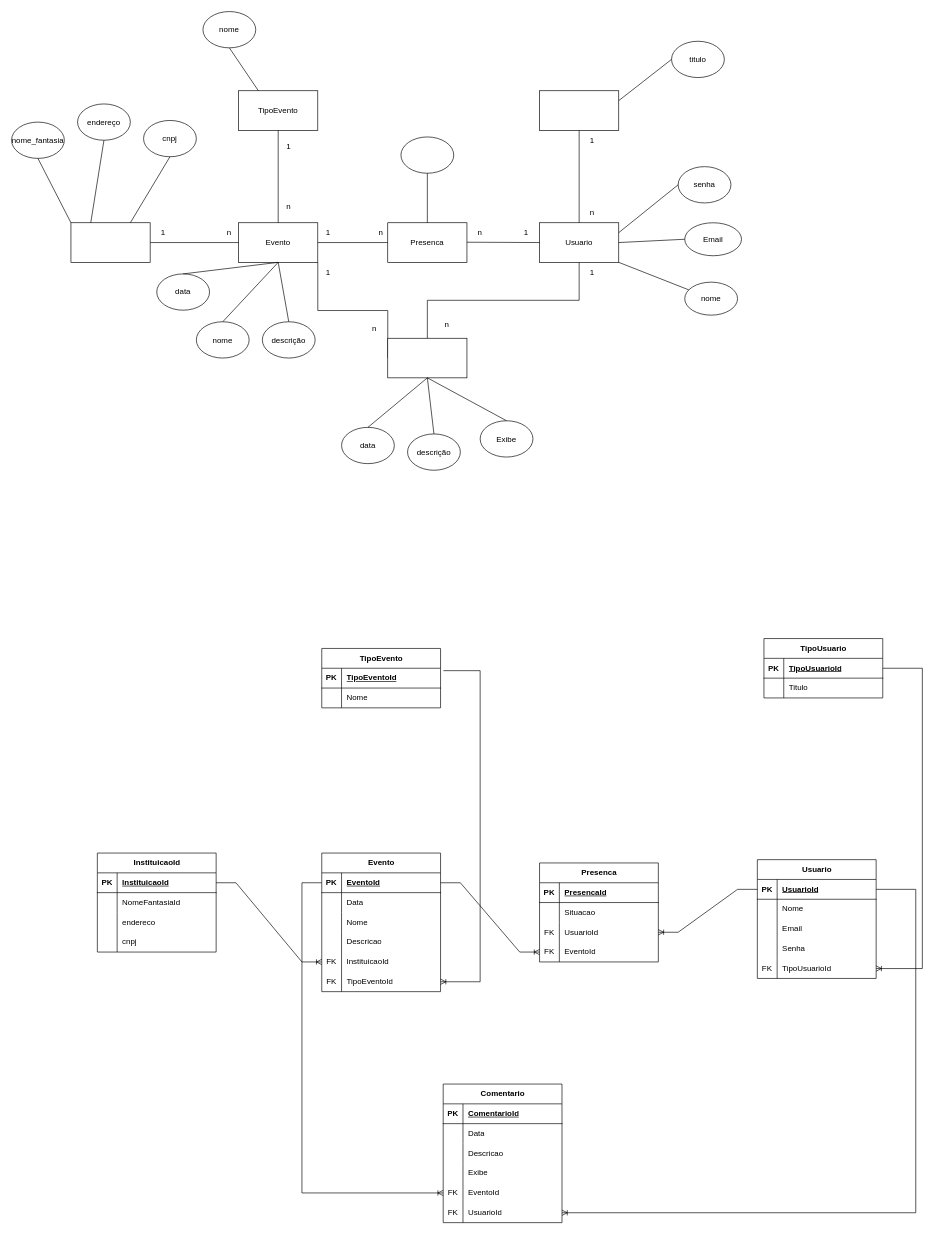
Image size: 939x1234. Some labels were removed from this diagram. The box of each missing label's shape, as (x1, y1, x2, y2) in pixels:
Comentario evento: (387, 338, 467, 378)
instituicao: (70, 222, 150, 262)
situação: (400, 136, 454, 173)
TipoUsuário: (539, 90, 619, 130)
